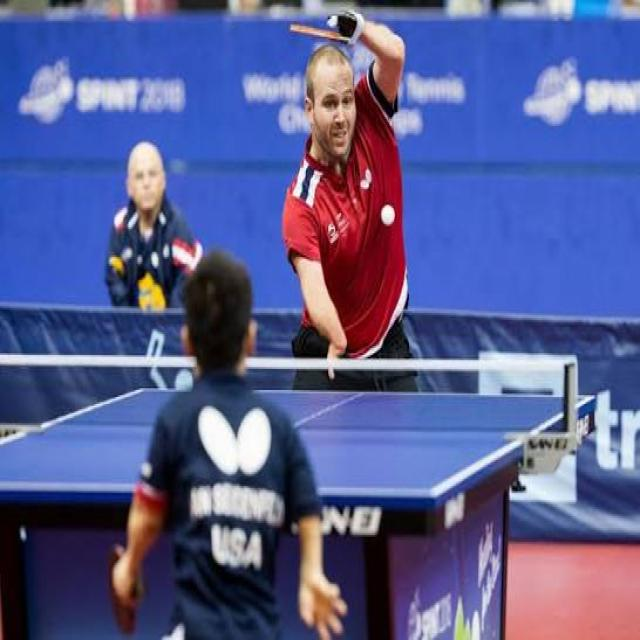TT Net: (0, 352, 580, 447)
TT Racket: (95, 539, 151, 638), (285, 15, 360, 53)
TT Table: (0, 387, 596, 496)
